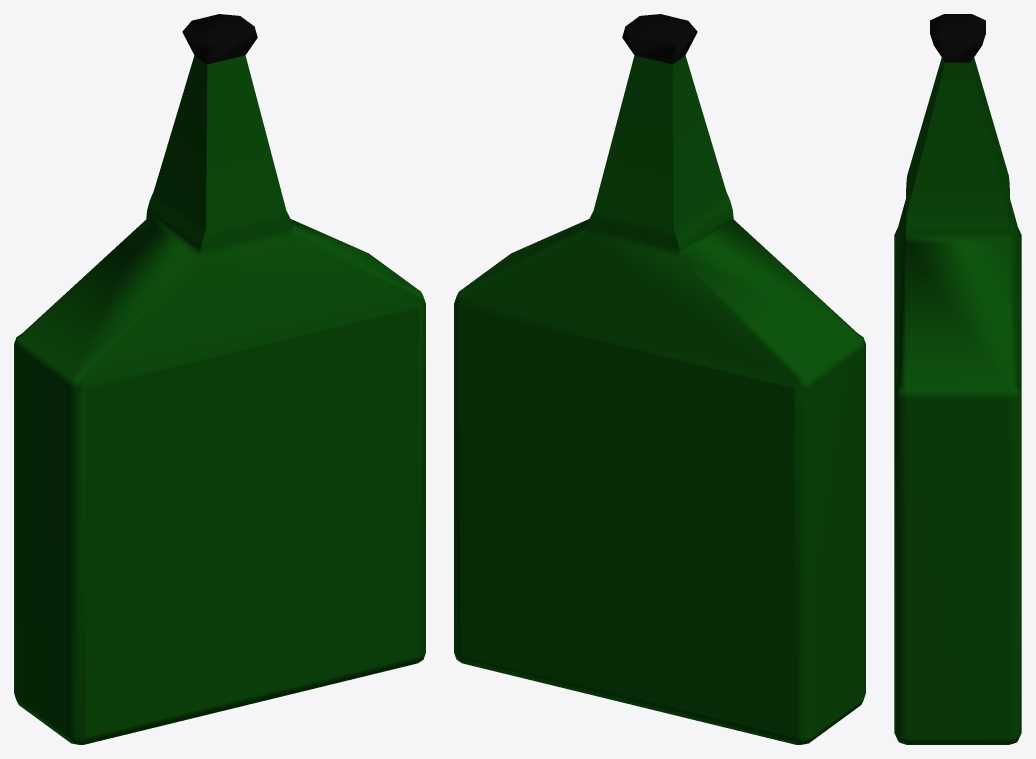
File: moonshine.fbx
The picture shows the model from 3 angles, left to right: view 1: azimuth 30°, elevation 25°; view 2: azimuth 150°, elevation 25°; view 3: azimuth 270°, elevation 25°; orthographic projection. The views are drawn at different scales.
Parts seen in each view (by area): view 1: pCube1; view 2: pCube1; view 3: pCube1.
Part boxes in pixels (x1=…): pCube1: x1=14, y1=14, x2=425, y2=744; pCube1: x1=454, y1=14, x2=865, y2=744; pCube1: x1=894, y1=14, x2=1021, y2=744.
Size of the model in its own units: 1 by 1.76 by 0.3181.
